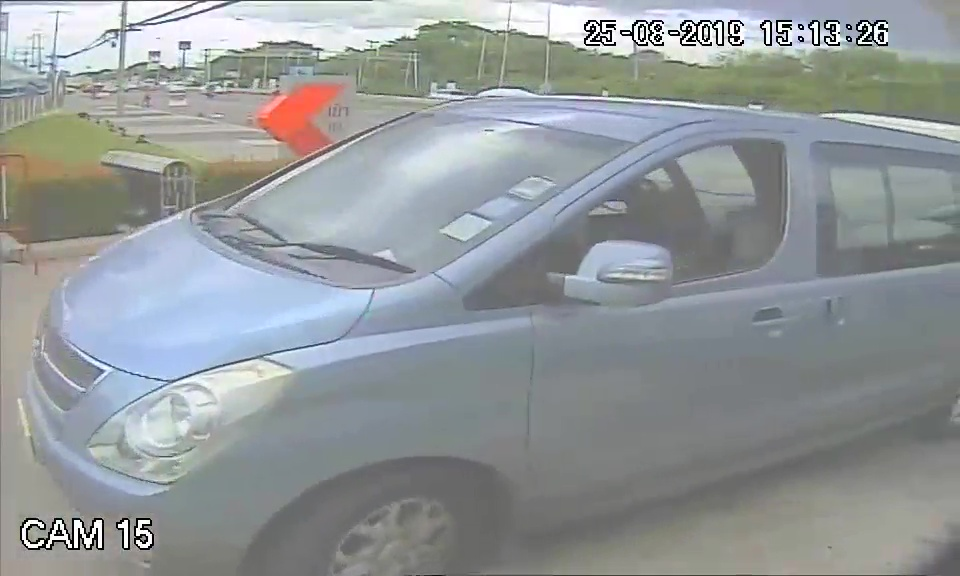van: (25, 89, 960, 501)
